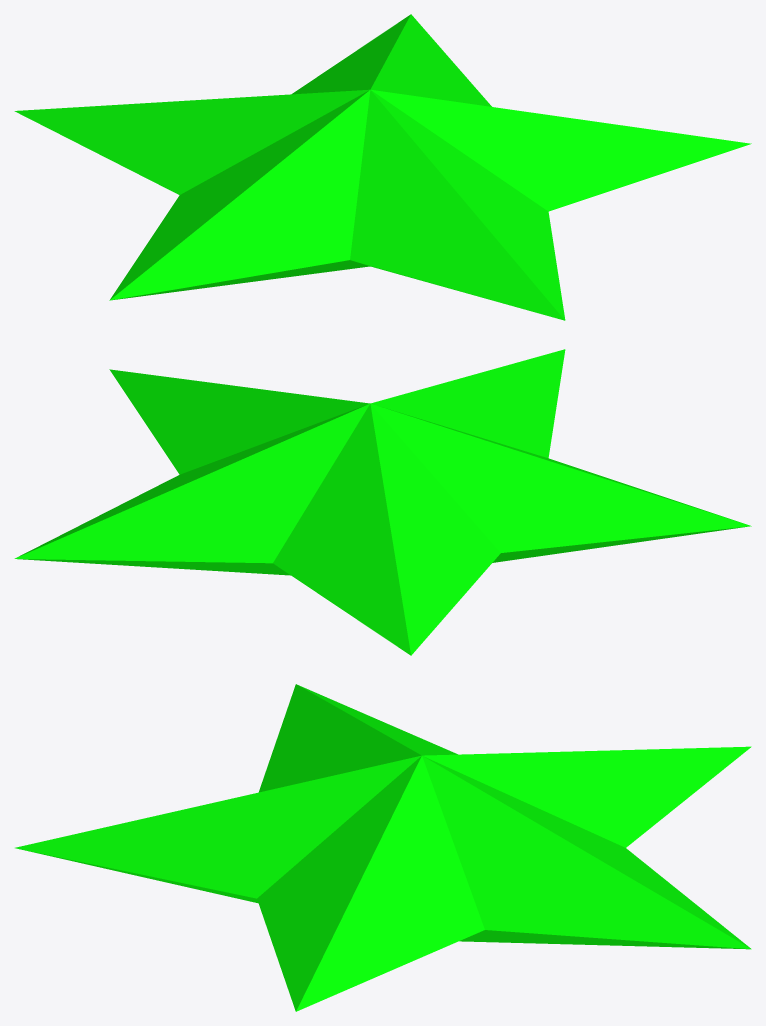
The model's file is star_green.glb.
The picture shows the model from 3 angles, top to bottom: view 1: azimuth 30°, elevation 25°; view 2: azimuth 150°, elevation 25°; view 3: azimuth 270°, elevation 25°; orthographic projection. The views are drawn at different scales.
Parts seen in each view (by area): view 1: 円, 円.001; view 2: 円, 円.001; view 3: 円, 円.001.
Part boxes in pixels (x1=…): 円: x1=14, y1=14, x2=751, y2=320; 円.001: x1=112, y1=260, x2=529, y2=310; 円: x1=14, y1=349, x2=751, y2=655; 円.001: x1=17, y1=526, x2=749, y2=575; 円: x1=15, y1=684, x2=751, y2=1011; 円.001: x1=19, y1=849, x2=749, y2=949.
Bounding box in the file's own units: 0.3805 × 0.1 × 0.3618.
